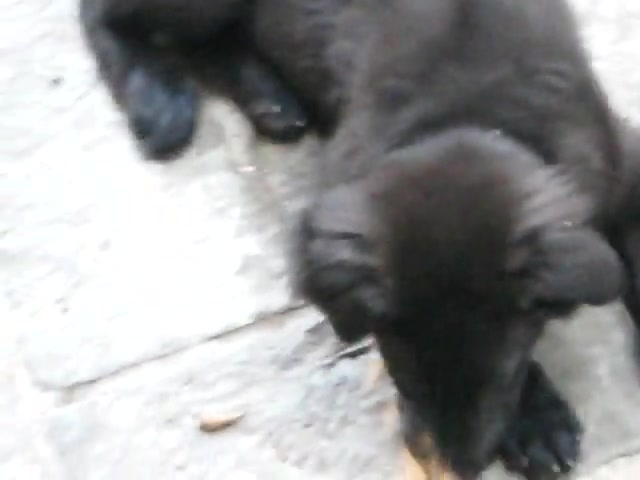dog: (81, 1, 640, 480)
